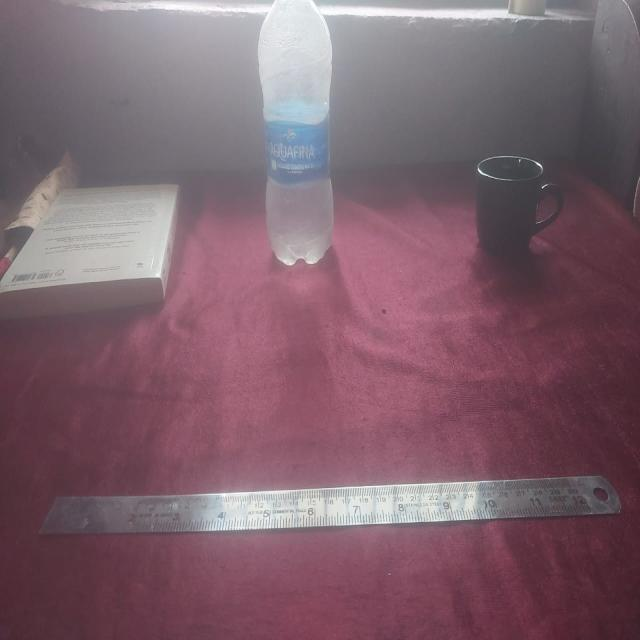Book: (0, 159, 186, 319)
Bottle: (251, 0, 338, 272)
Cup: (470, 153, 566, 259)
scale: (29, 461, 622, 545)
